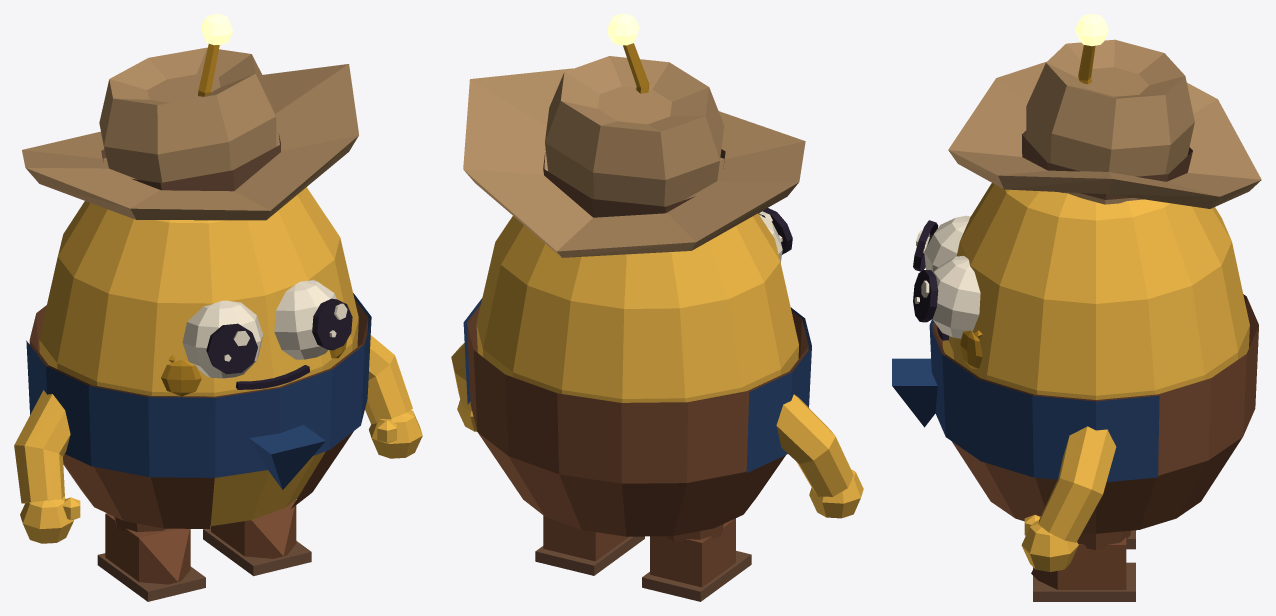
Rendered from Char_Native_Townie.fbx.
3 views of the same model, side by side, from view 1: azimuth 30°, elevation 25°; view 2: azimuth 150°, elevation 25°; view 3: azimuth 270°, elevation 25° (orthographic). The views are drawn at different scales.
Parts seen in each view (by area): view 1: Char_Native_Townie_Body, Char_Native_Townie_Head, Char_Native_Townie_Arm_R, Char_Native_Townie_Leg_R, Char_Native_Townie_Leg_L, Char_Native_Townie_Arm_L; view 2: Char_Native_Townie_Body, Char_Native_Townie_Leg_R, Char_Native_Townie_Arm_R, Char_Native_Townie_Leg_L, Char_Native_Townie_Head, Char_Native_Townie_Arm_L; view 3: Char_Native_Townie_Body, Char_Native_Townie_Head, Char_Native_Townie_Arm_L, Char_Native_Townie_Leg_L.
Part boxes in pixels (box(x1,y1,x2,y2)): Char_Native_Townie_Body: box(22, 47, 371, 528); Char_Native_Townie_Head: box(161, 14, 352, 396); Char_Native_Townie_Arm_R: box(14, 390, 80, 543); Char_Native_Townie_Leg_R: box(97, 513, 205, 601); Char_Native_Townie_Leg_L: box(203, 500, 311, 576); Char_Native_Townie_Arm_L: box(365, 335, 422, 458); Char_Native_Townie_Body: box(463, 56, 811, 536); Char_Native_Townie_Leg_R: box(642, 518, 751, 601); Char_Native_Townie_Arm_R: box(776, 394, 863, 518); Char_Native_Townie_Leg_L: box(535, 515, 644, 575); Char_Native_Townie_Head: box(607, 14, 792, 262); Char_Native_Townie_Arm_L: box(451, 343, 477, 431); Char_Native_Townie_Body: box(892, 39, 1261, 533); Char_Native_Townie_Head: box(913, 14, 1108, 368); Char_Native_Townie_Arm_L: box(1021, 426, 1116, 571); Char_Native_Townie_Leg_L: box(1031, 530, 1135, 601).
Bounding box in the file's own units: 1.23 × 1.6 × 0.9686.
